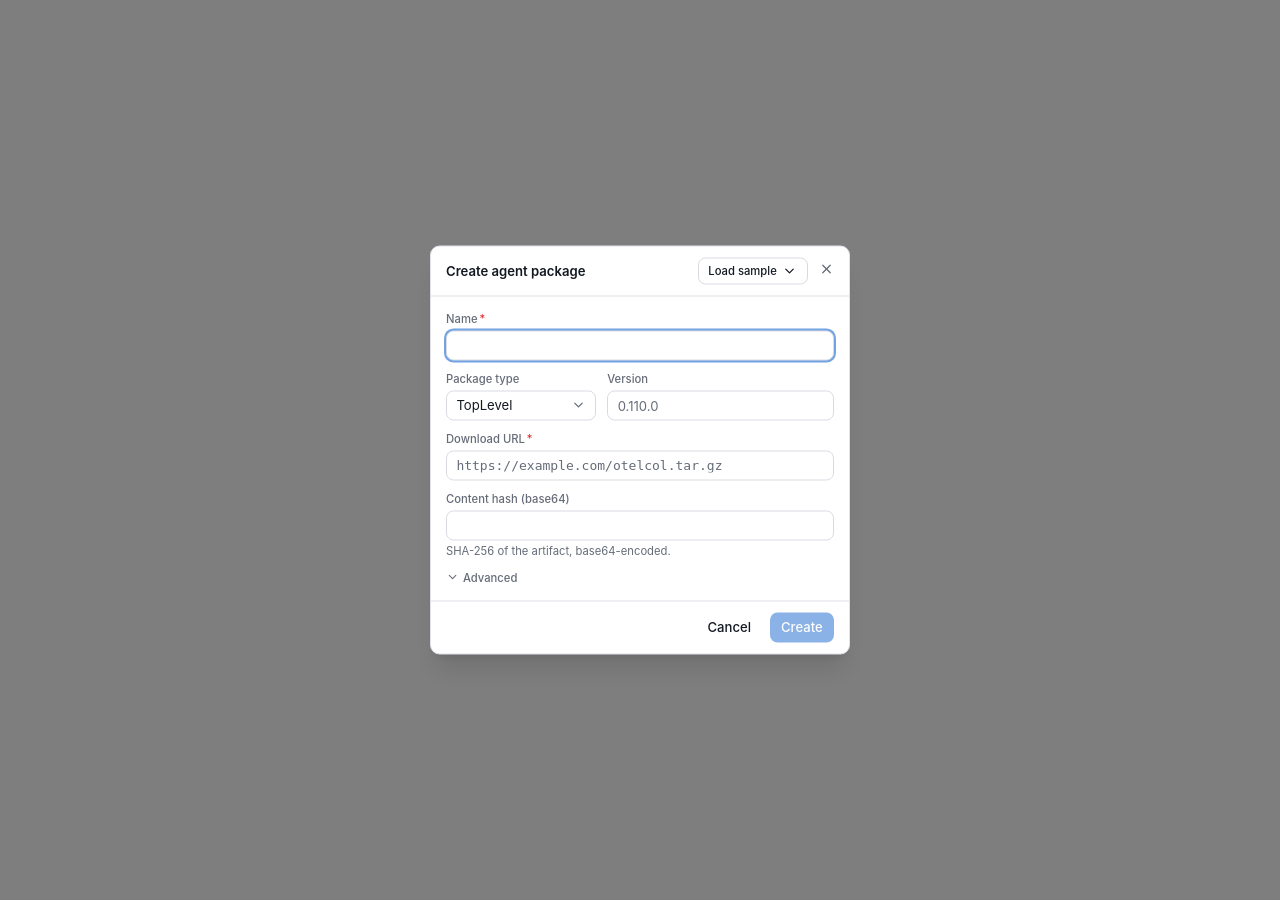
Test case: AgentPackageEditDialog › requires an absolute http(s) download URL
Type "pkg" into the field labelled "Name" at [640, 345], box 446,330 -> 834,360
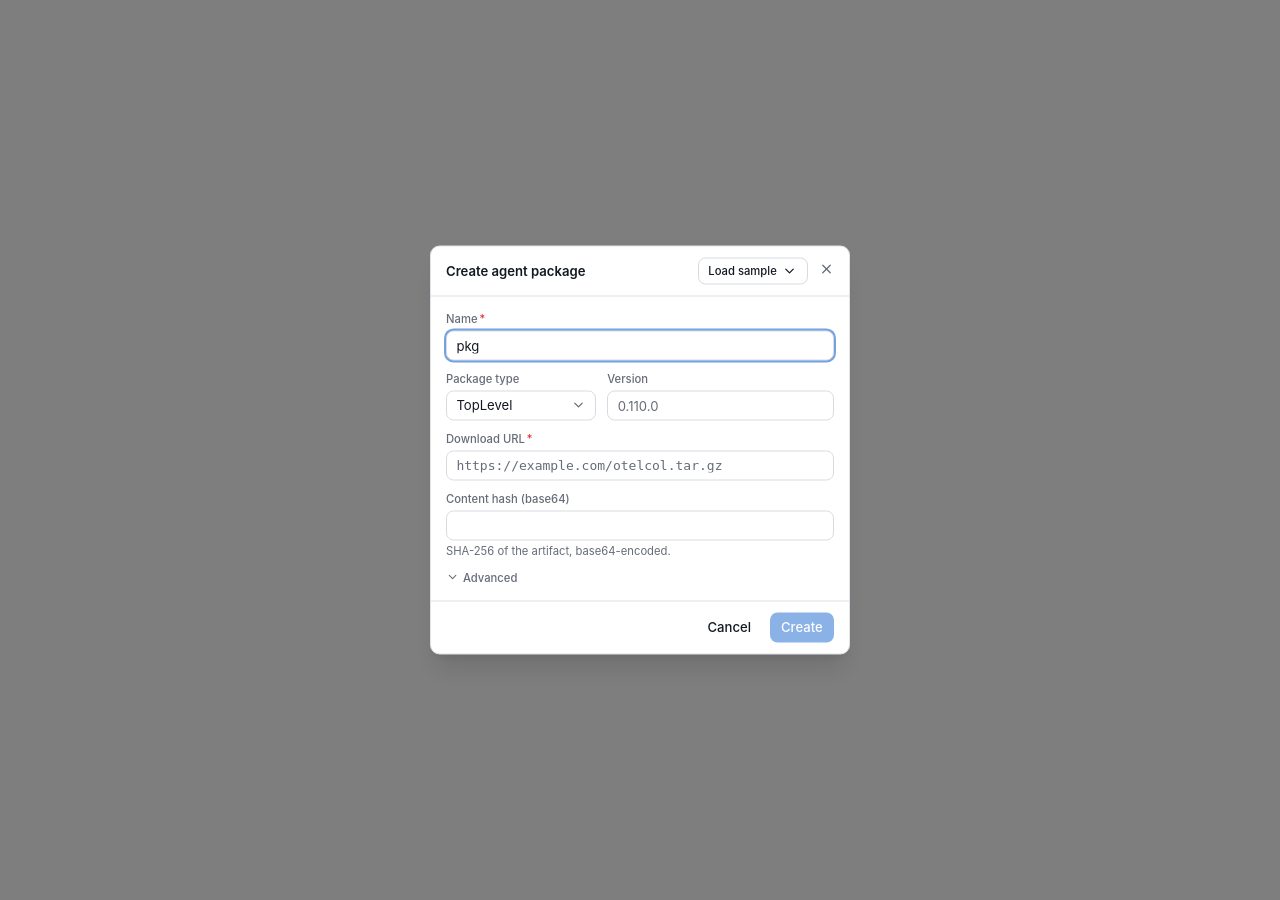
Expected: the button "Create" is disabled, 770,612 -> 834,642
Type "ftp://example.com/a.tgz" into the field labelled "Download URL" at [640, 465], box 446,450 -> 834,480
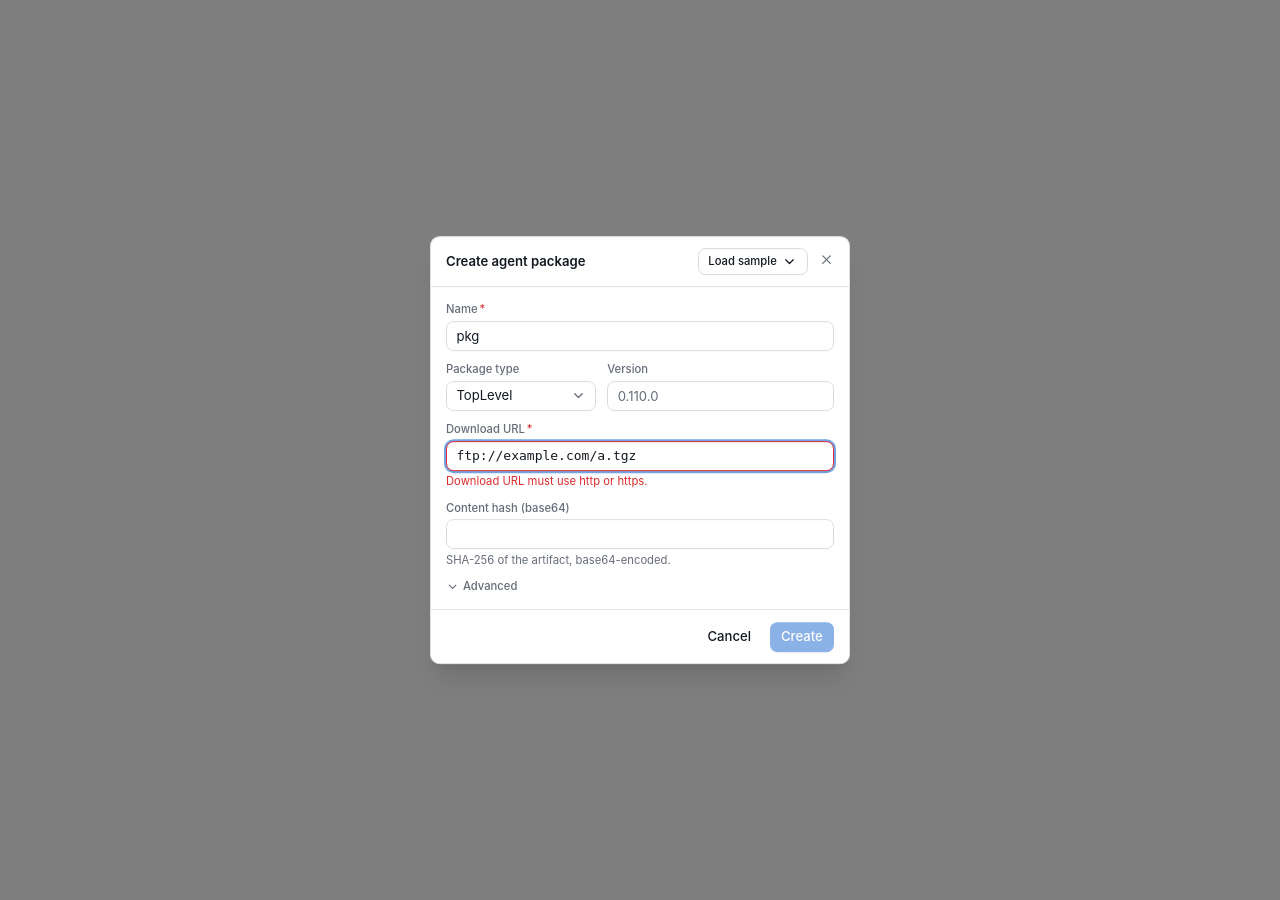
Expected: the button "Create" is disabled, 770,622 -> 834,652
Now the text "Download URL must use http or https." is shown, box 446,474 -> 648,488
Clear the field labelled "Download URL" at [640, 456], box 446,441 -> 834,471
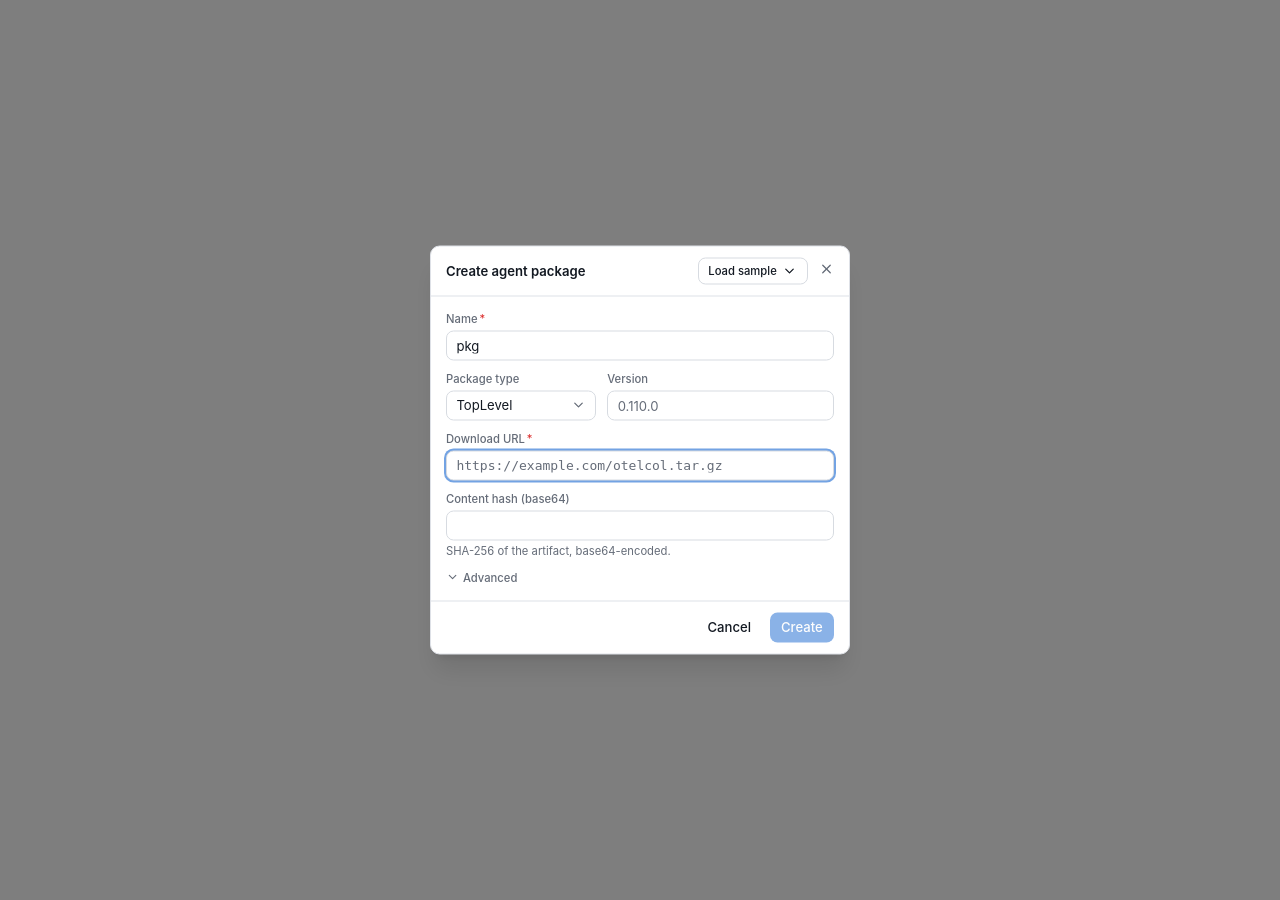
Type "https://example.com/a.tgz" into the field labelled "Download URL" at [640, 465], box 446,450 -> 834,480
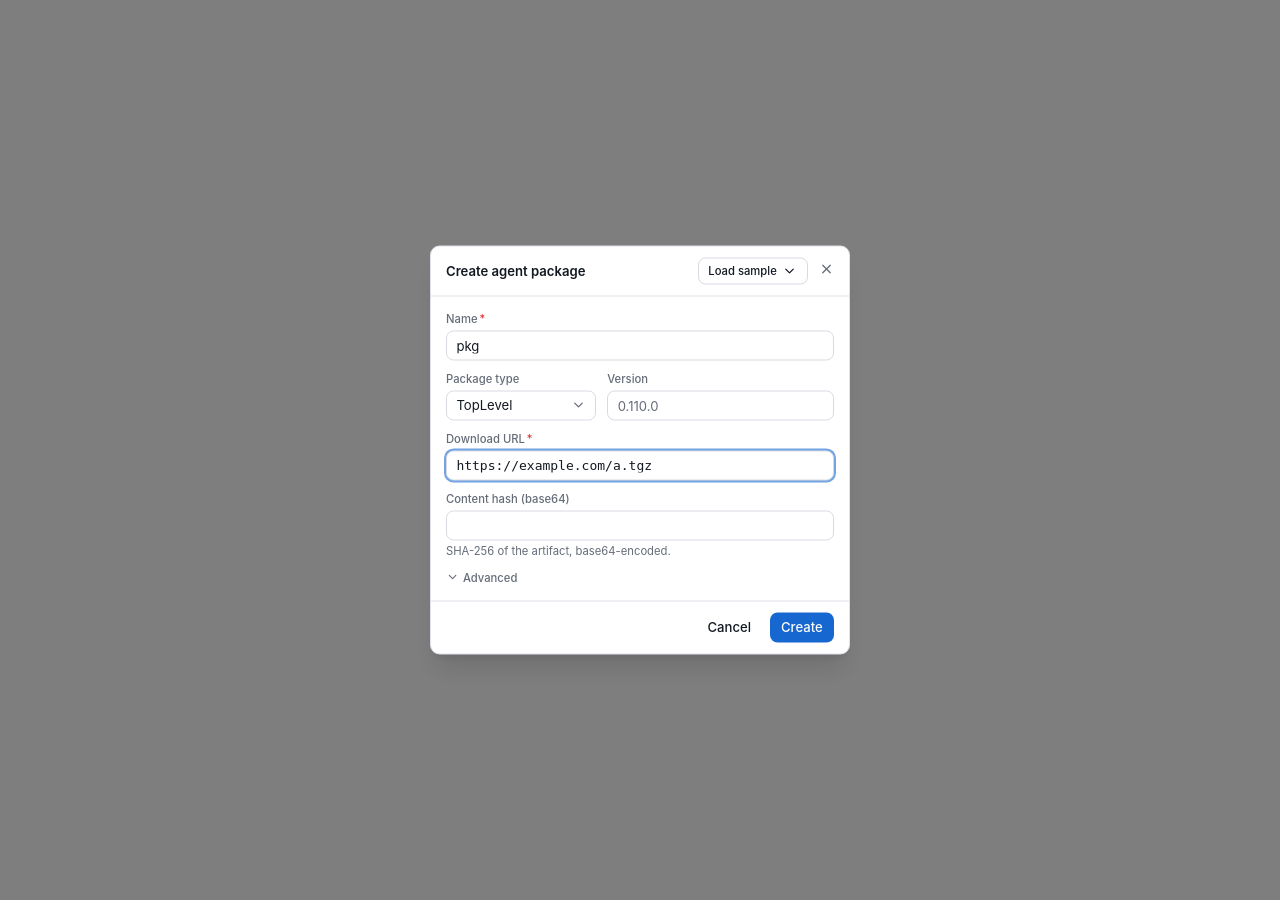
Now the button "Create" is enabled, box 770,612 -> 834,642
